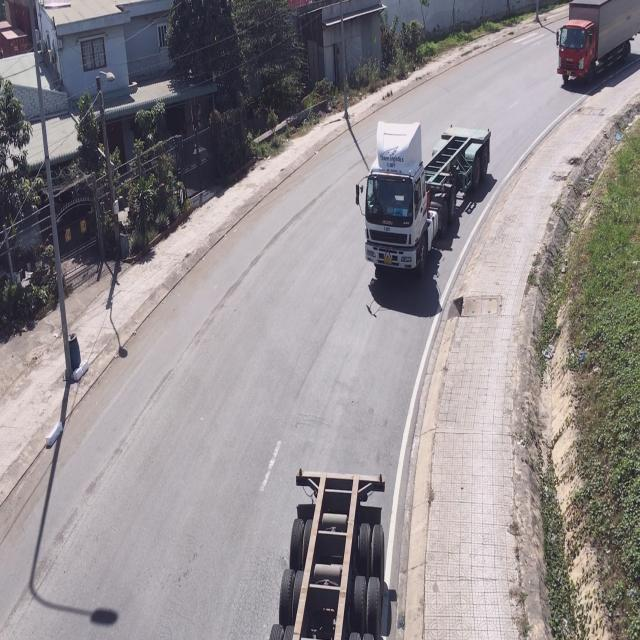truck: (270, 462, 386, 640), (364, 121, 491, 279), (556, 0, 637, 85)
